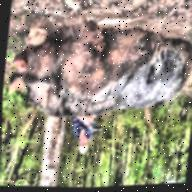boar: (5, 10, 192, 131)
